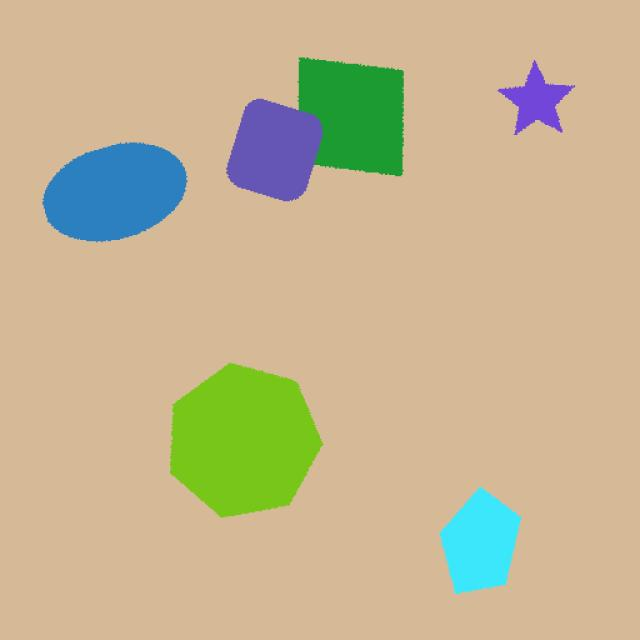Heptagon: (146, 352, 340, 530)
Kite: (286, 43, 450, 199)
Oval: (38, 133, 190, 253)
Pentagon: (425, 475, 535, 599)
Star: (492, 56, 588, 152)
square: (219, 89, 328, 208)
